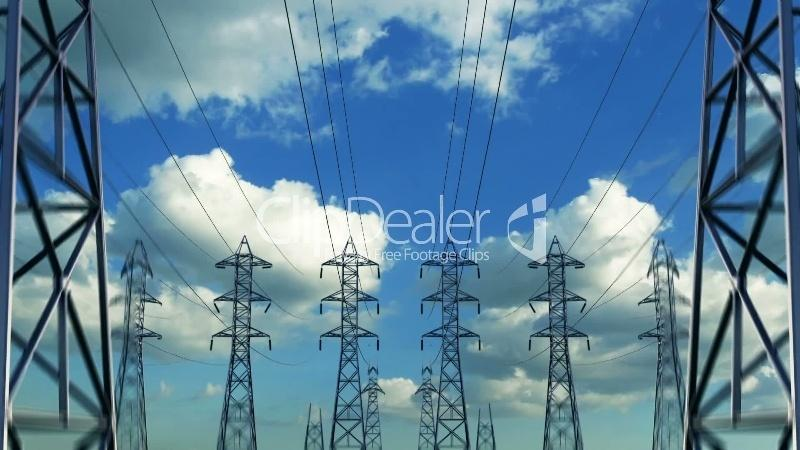power_tower: (196, 229, 276, 444), (315, 235, 387, 447), (520, 241, 589, 443), (412, 234, 477, 444)
